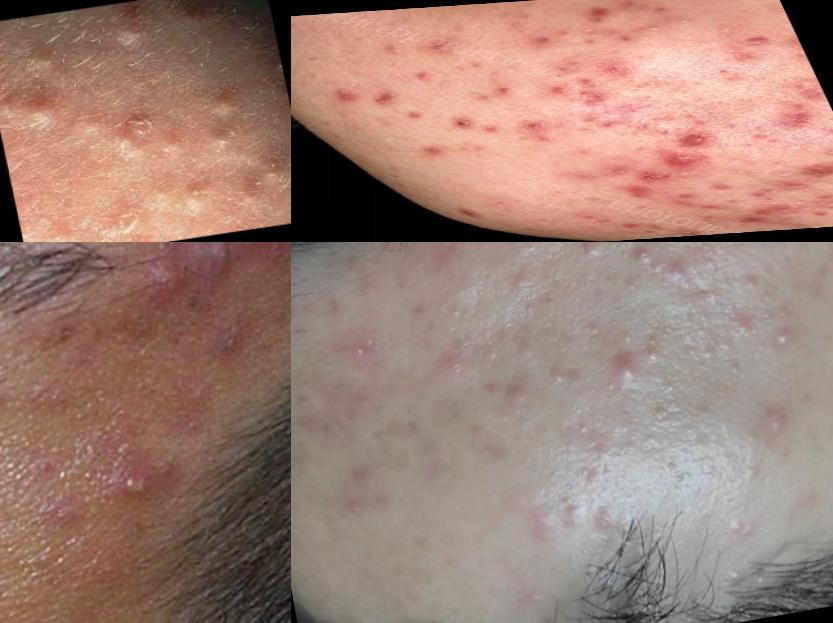cystic: (178, 243, 244, 287)
papular: (534, 61, 689, 132), (649, 148, 720, 173), (768, 105, 833, 132), (739, 200, 812, 222), (410, 36, 469, 60), (664, 129, 722, 148), (624, 167, 681, 186), (361, 90, 406, 111), (515, 118, 558, 138), (799, 158, 833, 181), (326, 86, 365, 104), (443, 117, 479, 133)
purulent: (105, 443, 175, 520)
sebo-crystan-conglo: (104, 113, 148, 171)
whitehead: (15, 88, 69, 139), (112, 11, 166, 58), (606, 334, 647, 393), (205, 81, 258, 123), (751, 394, 801, 436), (736, 453, 778, 499), (252, 143, 290, 193), (206, 122, 249, 164), (595, 488, 632, 532), (765, 319, 812, 352), (716, 507, 755, 543), (545, 361, 581, 399), (669, 250, 702, 283), (576, 243, 613, 271), (632, 243, 664, 275), (641, 337, 673, 369), (570, 20, 613, 42), (642, 22, 672, 36), (466, 91, 492, 101), (680, 18, 693, 24), (592, 86, 601, 90)
